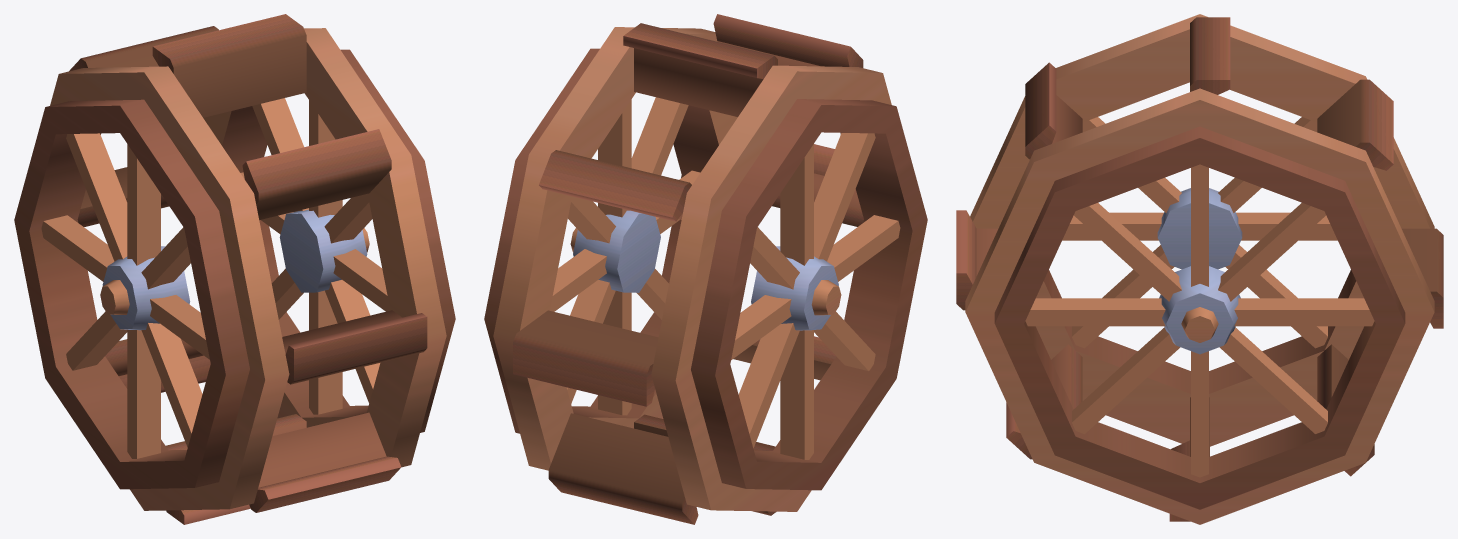
File: watermill-wide.glb
The picture shows the model from 3 angles, left to right: view 1: azimuth 30°, elevation 25°; view 2: azimuth 150°, elevation 25°; view 3: azimuth 270°, elevation 25°; orthographic projection. The views are drawn at different scales.
Parts seen in each view (by area): view 1: watermill-wide; view 2: watermill-wide; view 3: watermill-wide.
Boxes of the visible parts, <box> form: watermill-wide: <box>14,14,455,524</box>; watermill-wide: <box>484,14,927,524</box>; watermill-wide: <box>956,14,1443,524</box>.
Size of the model in its own units: 1.05 by 1.8 by 1.8.
Materials: 1 (1 with a texture image).
